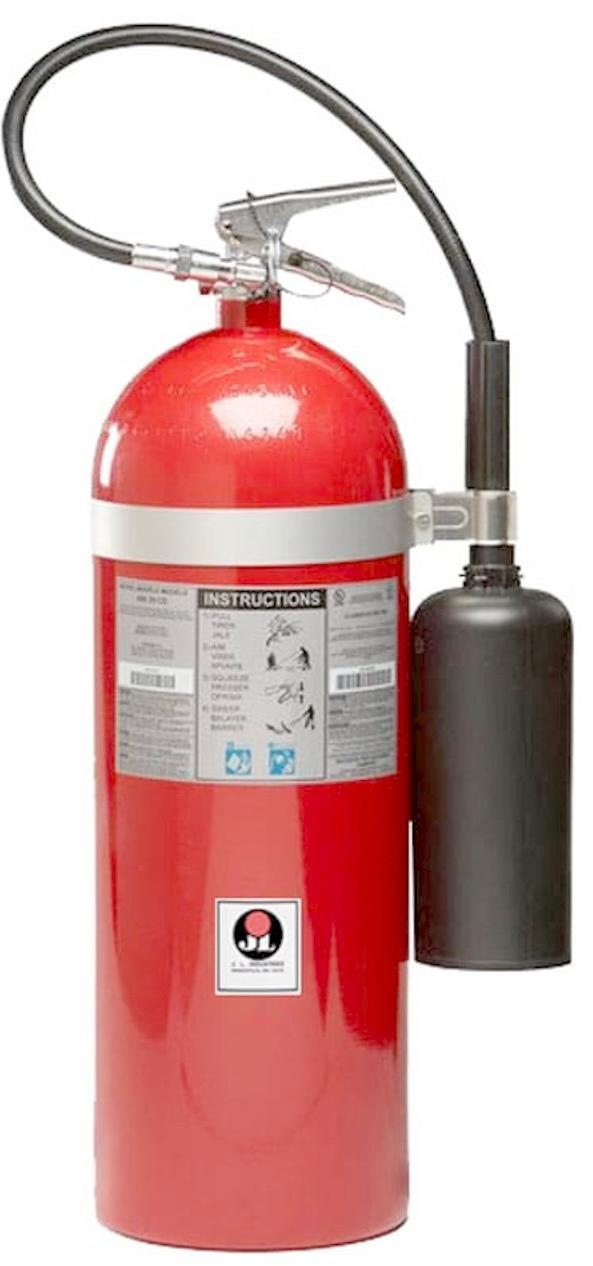Fire Extinguisher: (3, 0, 593, 1250)
